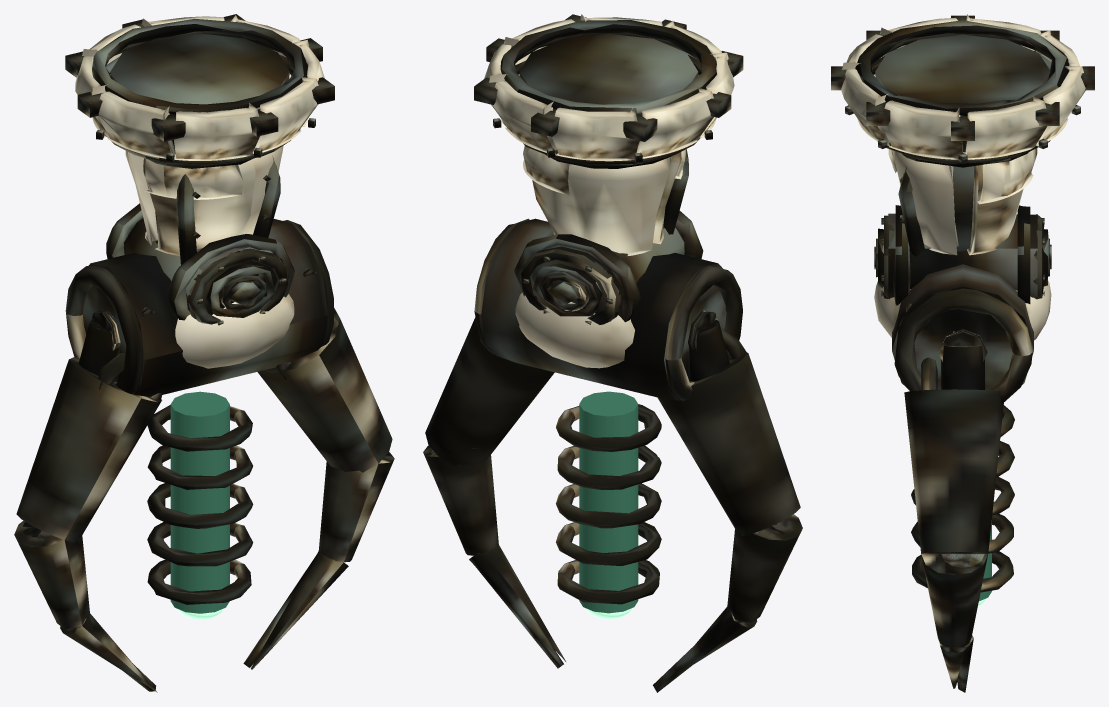
The model's file is arm-arc-icon-v1.glb.
3 views of the same model, side by side, from view 1: azimuth 30°, elevation 25°; view 2: azimuth 150°, elevation 25°; view 3: azimuth 270°, elevation 25° (orthographic).
Parts seen in each view (by area): view 1: arm-arc-icon-v1-brass, arm-arc-icon-v1-steel, arm-arc-icon-v1-ceramic, arm-arc-icon-v1-glass; view 2: arm-arc-icon-v1-brass, arm-arc-icon-v1-steel, arm-arc-icon-v1-ceramic, arm-arc-icon-v1-glass; view 3: arm-arc-icon-v1-steel, arm-arc-icon-v1-brass, arm-arc-icon-v1-ceramic.
Boxes of the visible parts, left/top/right/bottom form: arm-arc-icon-v1-brass: left=14, top=14, right=394, bottom=692; arm-arc-icon-v1-steel: left=23, top=18, right=327, bottom=691; arm-arc-icon-v1-ceramic: left=75, top=15, right=324, bottom=368; arm-arc-icon-v1-glass: left=170, top=391, right=229, bottom=613; arm-arc-icon-v1-brass: left=423, top=14, right=802, bottom=663; arm-arc-icon-v1-steel: left=430, top=20, right=784, bottom=692; arm-arc-icon-v1-ceramic: left=484, top=14, right=734, bottom=368; arm-arc-icon-v1-glass: left=579, top=391, right=638, bottom=613; arm-arc-icon-v1-steel: left=845, top=20, right=1080, bottom=692; arm-arc-icon-v1-brass: left=831, top=15, right=1094, bottom=688; arm-arc-icon-v1-ceramic: left=841, top=14, right=1085, bottom=340.
Size of the model in its own units: 0.7092 by 1.13 by 0.4453.
Materials: 3 (1 with a texture image).
